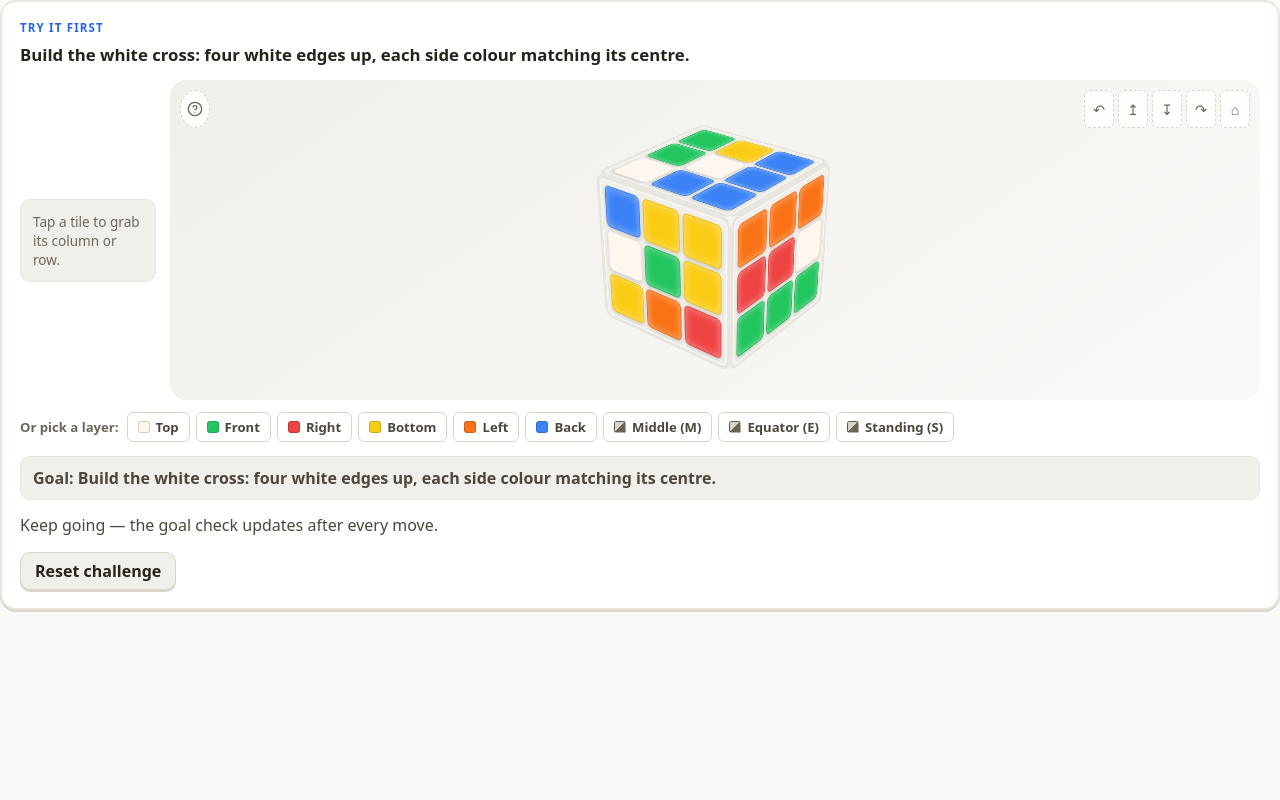
Test: ChallengePanel — 3×3 sticker-level layer selection › tapping a corner tile on the front face selects its column layer, tapping again its row layer
Click the button with test id "cube-sticker".
click(664, 272)  # box [596,172,731,372]
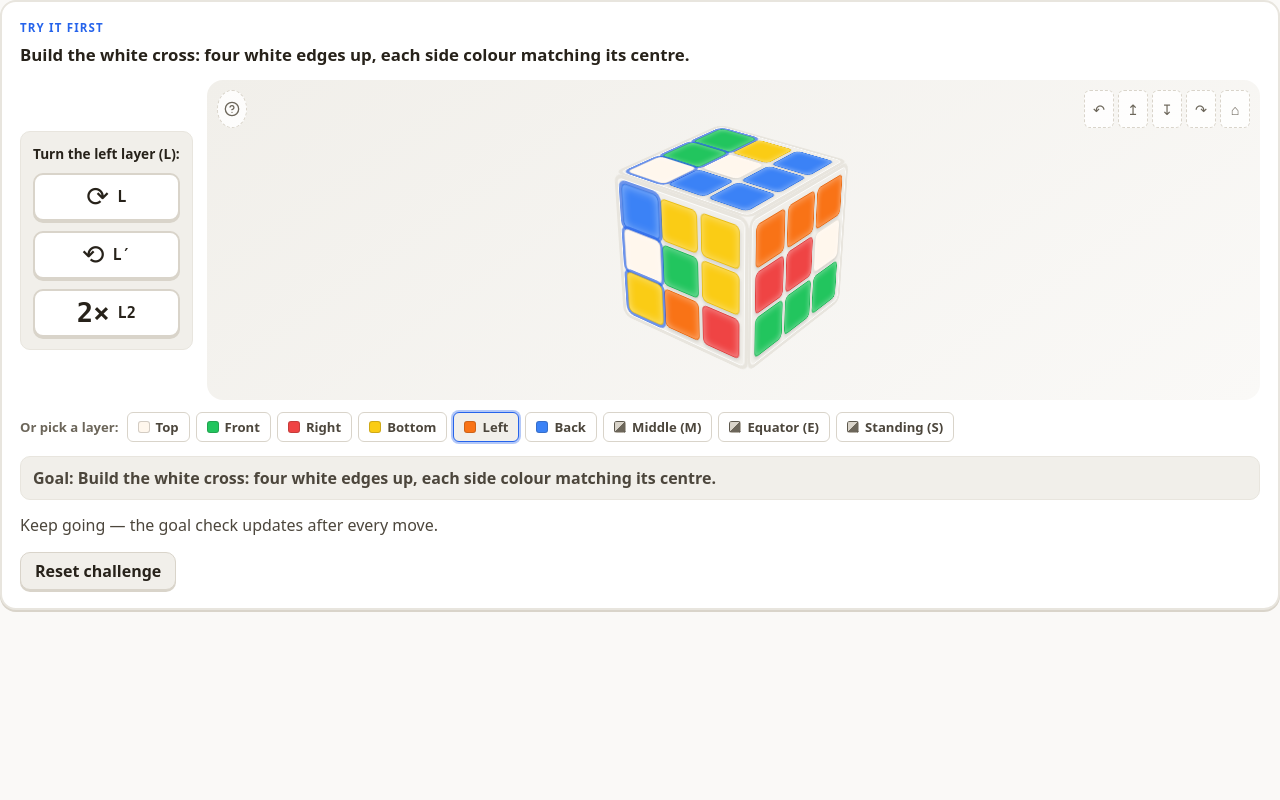
Expected: the text "Turn the left layer (L):" is shown, [33,144,180,162]
Click the button with test id "cube-sticker".
click(682, 272)  # box [614,172,750,372]
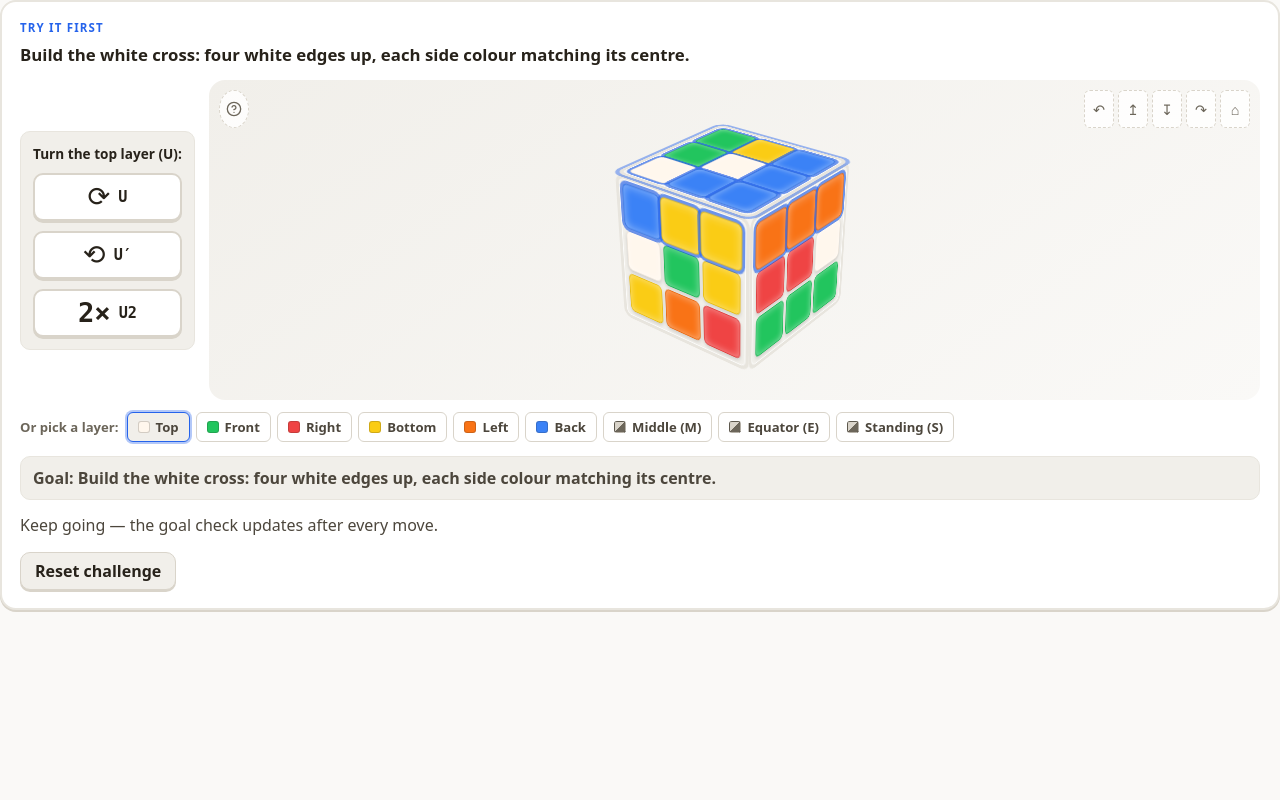
Expected: the text "Turn the top layer (U):" is shown, [33,144,182,162]
Click the button with test id "cube-sticker".
click(683, 272)  # box [616,172,751,372]
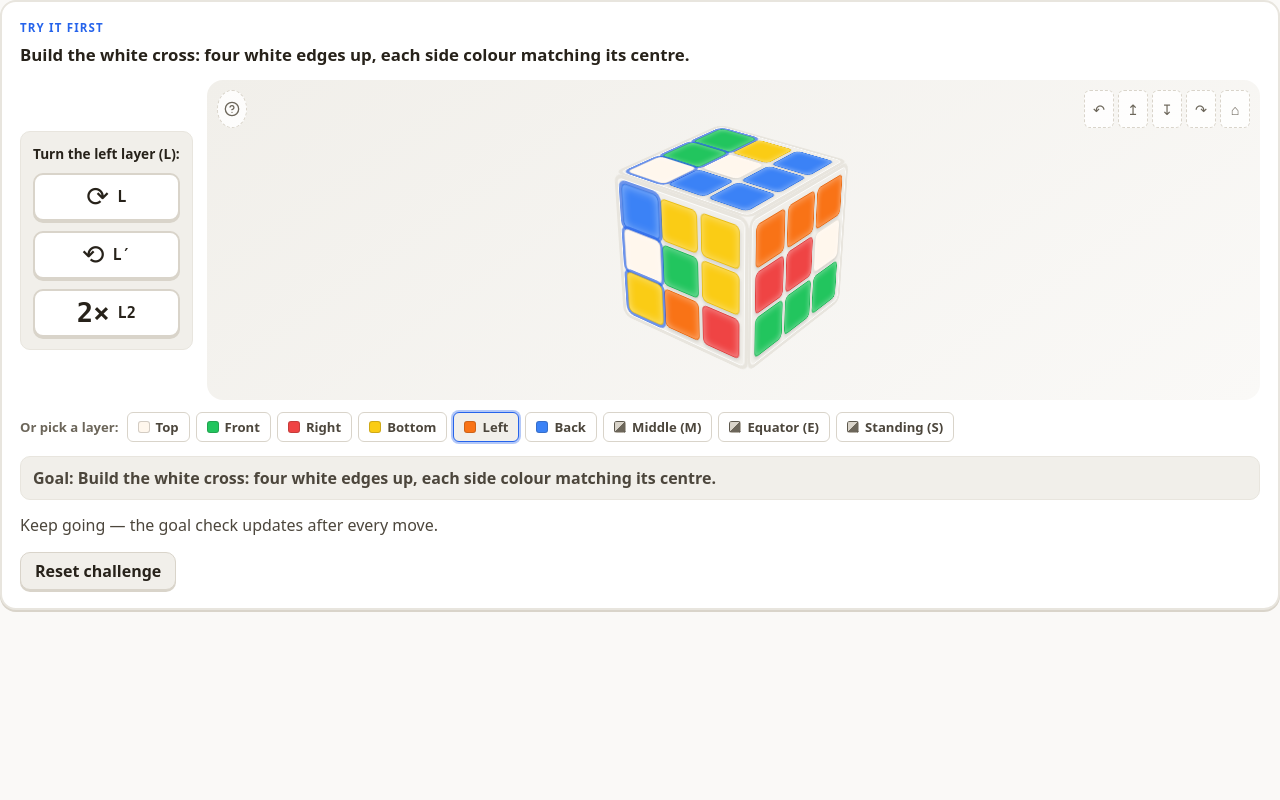
Expected: the text "Turn the left layer (L):" is shown, [33,144,180,162]
